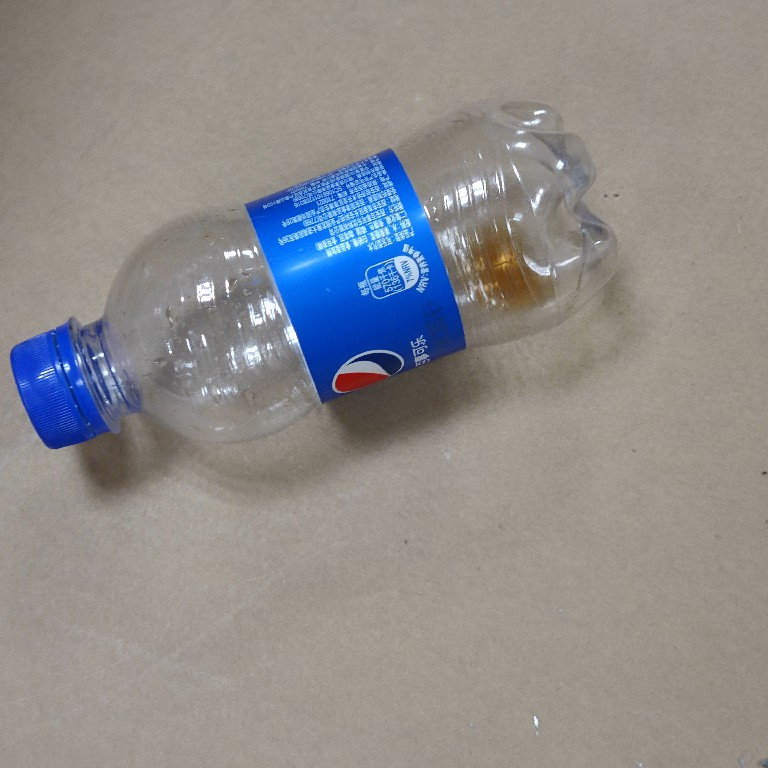bottle: (9, 95, 622, 461)
